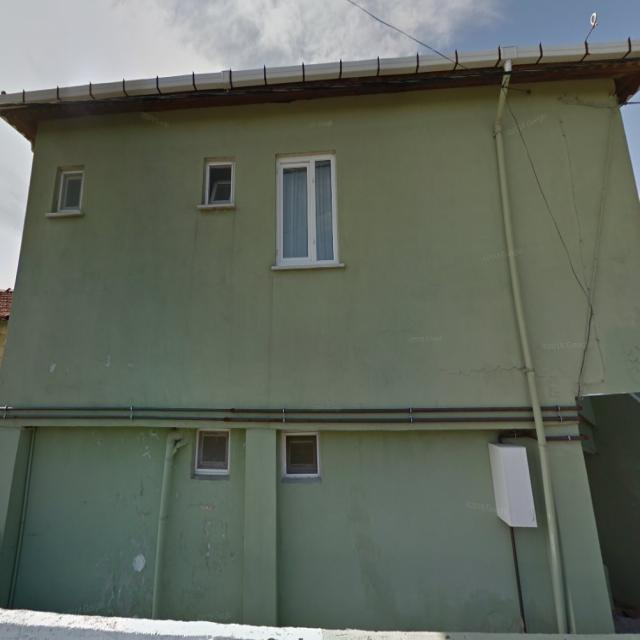Building: (0, 38, 640, 634)
